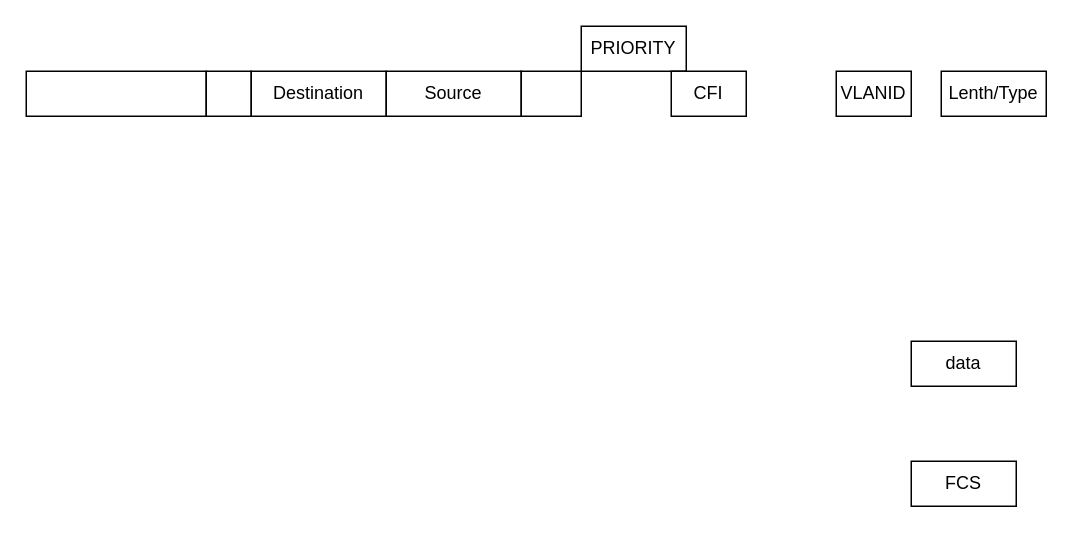
Some shapes in this 1073 by 533 pixel diagram are drawn without their labels. Here are the shapes that lost their labels. From the top down, the centre of each, then its label:
pixel 115 93: PREAMBLE
pixel 228 93: SFD
pixel 550 93: TPID
